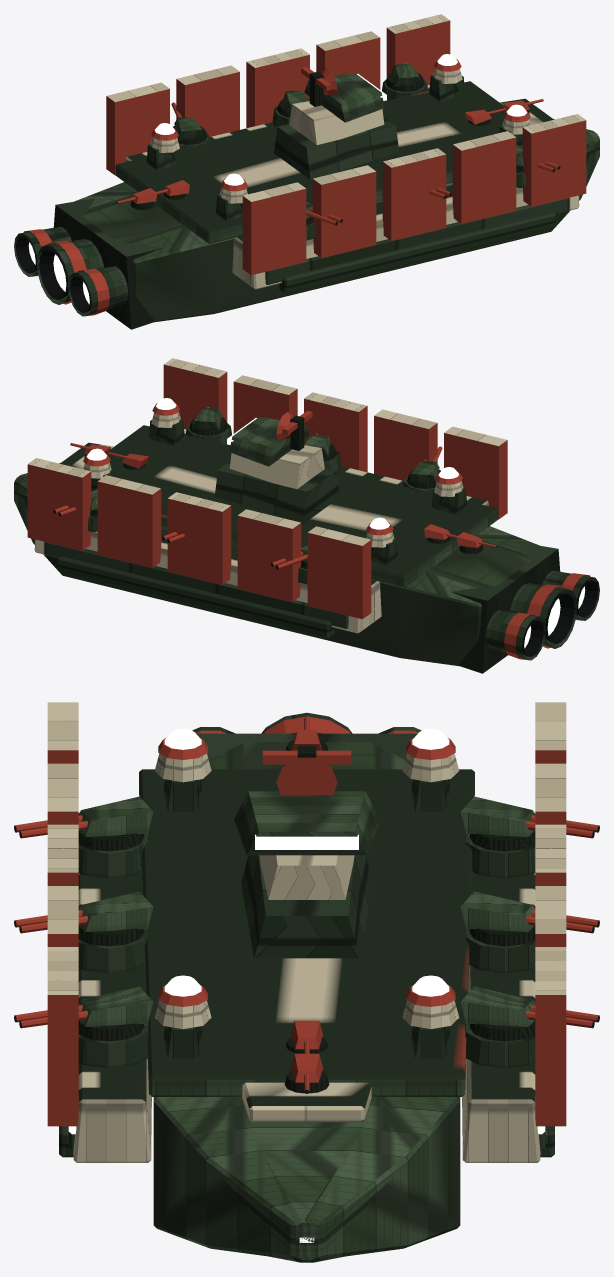
Rendered from cruiser.glb.
The picture shows the model from 3 angles, top to bottom: view 1: azimuth 30°, elevation 25°; view 2: azimuth 150°, elevation 25°; view 3: azimuth 270°, elevation 25°; orthographic projection. The views are drawn at different scales.
Visible parts, largest first — view 1: hull_body, engine_block, sensor_tower, weapon_turrets, shield_pylons; view 2: hull_body, engine_block, sensor_tower, weapon_turrets, shield_pylons; view 3: hull_body, weapon_turrets, sensor_tower, shield_pylons, engine_block.
Part boxes in pixels (x1,y1,x2,y2): hull_body: (74, 14, 599, 322); engine_block: (14, 198, 162, 329); sensor_tower: (273, 67, 399, 179); weapon_turrets: (116, 63, 560, 240); shield_pylons: (146, 54, 530, 221); hull_body: (14, 358, 539, 666); engine_block: (451, 542, 599, 673); sensor_tower: (214, 411, 340, 523); weapon_turrets: (53, 407, 497, 584); shield_pylons: (83, 398, 467, 565); hull_body: (47, 702, 566, 1262); weapon_turrets: (14, 716, 599, 1093); sensor_tower: (234, 745, 379, 958); shield_pylons: (154, 728, 459, 1058); engine_block: (192, 712, 421, 759).
Size of the model in its own units: 42 by 13.22 by 21.91.
Materials: 1 (1 with a texture image).
